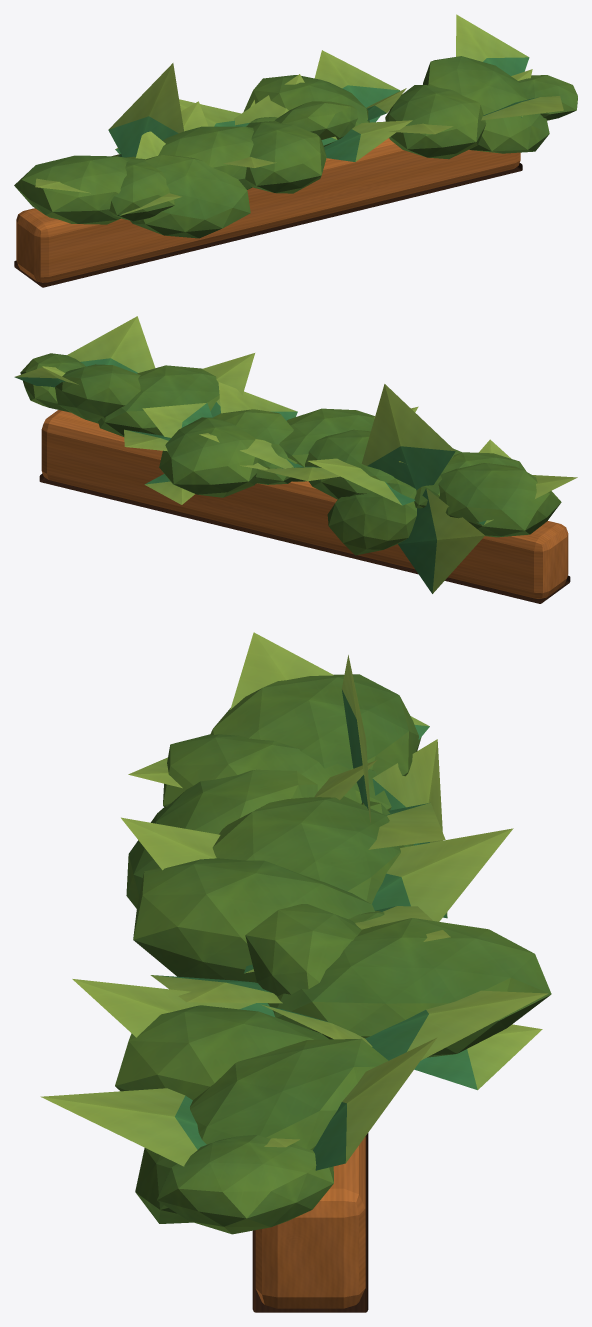
The model's file is forest_bridge_rail.glb.
3 renders of one model, top to bottom at view 1: azimuth 30°, elevation 25°; view 2: azimuth 150°, elevation 25°; view 3: azimuth 270°, elevation 25°, orthographic. The views are drawn at different scales.
Visible parts, largest first — view 1: Bridge timber rail, Woodland shared moss cushion.069, Woodland shared moss cushion.068, Woodland shared moss cushion.075, Woodland shared moss cushion.070, Woodland shared moss cushion.077, Woodland shared curved ivy leaf.185, Woodland shared moss cushion.066, Woodland shared moss cushion.073, Woodland shared moss cushion.067, Rail underside shadow, Woodland shared curved ivy leaf.169 (+11 smaller); view 2: Bridge timber rail, Woodland shared moss cushion.075, Woodland shared moss cushion.073, Woodland shared curved ivy leaf.185, Woodland shared moss cushion.076, Woodland shared curved ivy leaf.186, Woodland shared moss cushion.070, Woodland shared moss cushion.068, Woodland shared moss cushion.066, Woodland shared curved ivy leaf.175, Woodland shared moss cushion.077, Rail underside shadow (+14 smaller); view 3: Woodland shared moss cushion.073, Woodland shared moss cushion.077, Woodland shared moss cushion.068, Woodland shared moss cushion.075, Woodland shared moss cushion.071, Bridge timber rail, Woodland shared moss cushion.066, Woodland shared moss cushion.070, Woodland shared moss cushion.074, Woodland shared moss cushion.069, Woodland shared moss cushion.067, Woodland shared curved ivy leaf.165 (+15 smaller).
Part boxes in pixels (x1,y1,x2,y2): Bridge timber rail: (16, 138, 520, 282); Woodland shared moss cushion.069: (130, 154, 250, 238); Woodland shared moss cushion.068: (423, 56, 549, 153); Woodland shared moss cushion.075: (14, 155, 131, 224); Woodland shared moss cushion.070: (385, 85, 486, 159); Woodland shared moss cushion.077: (245, 121, 326, 193); Woodland shared curved ivy leaf.185: (108, 63, 183, 157); Woodland shared moss cushion.066: (158, 126, 253, 189); Woodland shared moss cushion.073: (243, 75, 369, 127); Woodland shared moss cushion.067: (109, 156, 174, 221); Rail underside shadow: (14, 163, 522, 287); Woodland shared curved ivy leaf.169: (456, 14, 529, 75); Bridge timber rail: (41, 410, 568, 598); Woodland shared moss cushion.075: (438, 463, 561, 537); Woodland shared moss cushion.073: (159, 417, 258, 497); Woodland shared curved ivy leaf.185: (361, 384, 455, 490); Woodland shared moss cushion.076: (327, 478, 416, 555); Woodland shared curved ivy leaf.186: (398, 488, 484, 593); Woodland shared moss cushion.070: (98, 365, 219, 436); Woodland shared moss cushion.068: (55, 364, 140, 423); Woodland shared moss cushion.066: (305, 429, 394, 499); Woodland shared curved ivy leaf.175: (67, 316, 155, 373); Woodland shared moss cushion.077: (279, 408, 374, 481); Rail underside shadow: (39, 473, 570, 603); Woodland shared moss cushion.073: (268, 918, 551, 1057); Woodland shared moss cushion.077: (133, 858, 374, 982); Woodland shared moss cushion.068: (135, 1038, 388, 1223); Woodland shared moss cushion.075: (210, 674, 421, 776); Woodland shared moss cushion.071: (157, 1135, 333, 1234); Bridge timber rail: (255, 1136, 365, 1308); Woodland shared moss cushion.066: (212, 796, 404, 903); Woodland shared moss cushion.070: (115, 1005, 329, 1099); Woodland shared moss cushion.074: (245, 904, 361, 995); Woodland shared moss cushion.069: (126, 769, 317, 908); Woodland shared moss cushion.067: (163, 734, 391, 810); Woodland shared curved ivy leaf.165: (372, 828, 513, 921).
Size of the model in its own units: 1.13 by 0.3436 by 0.4651.
Materials: 5 (5 with a texture image).
